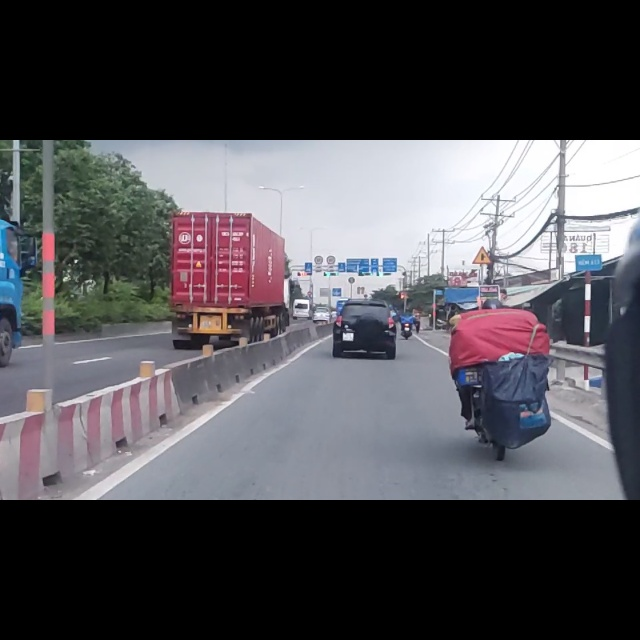bien_chi_dan: (471, 187, 493, 222), (327, 205, 335, 220)
